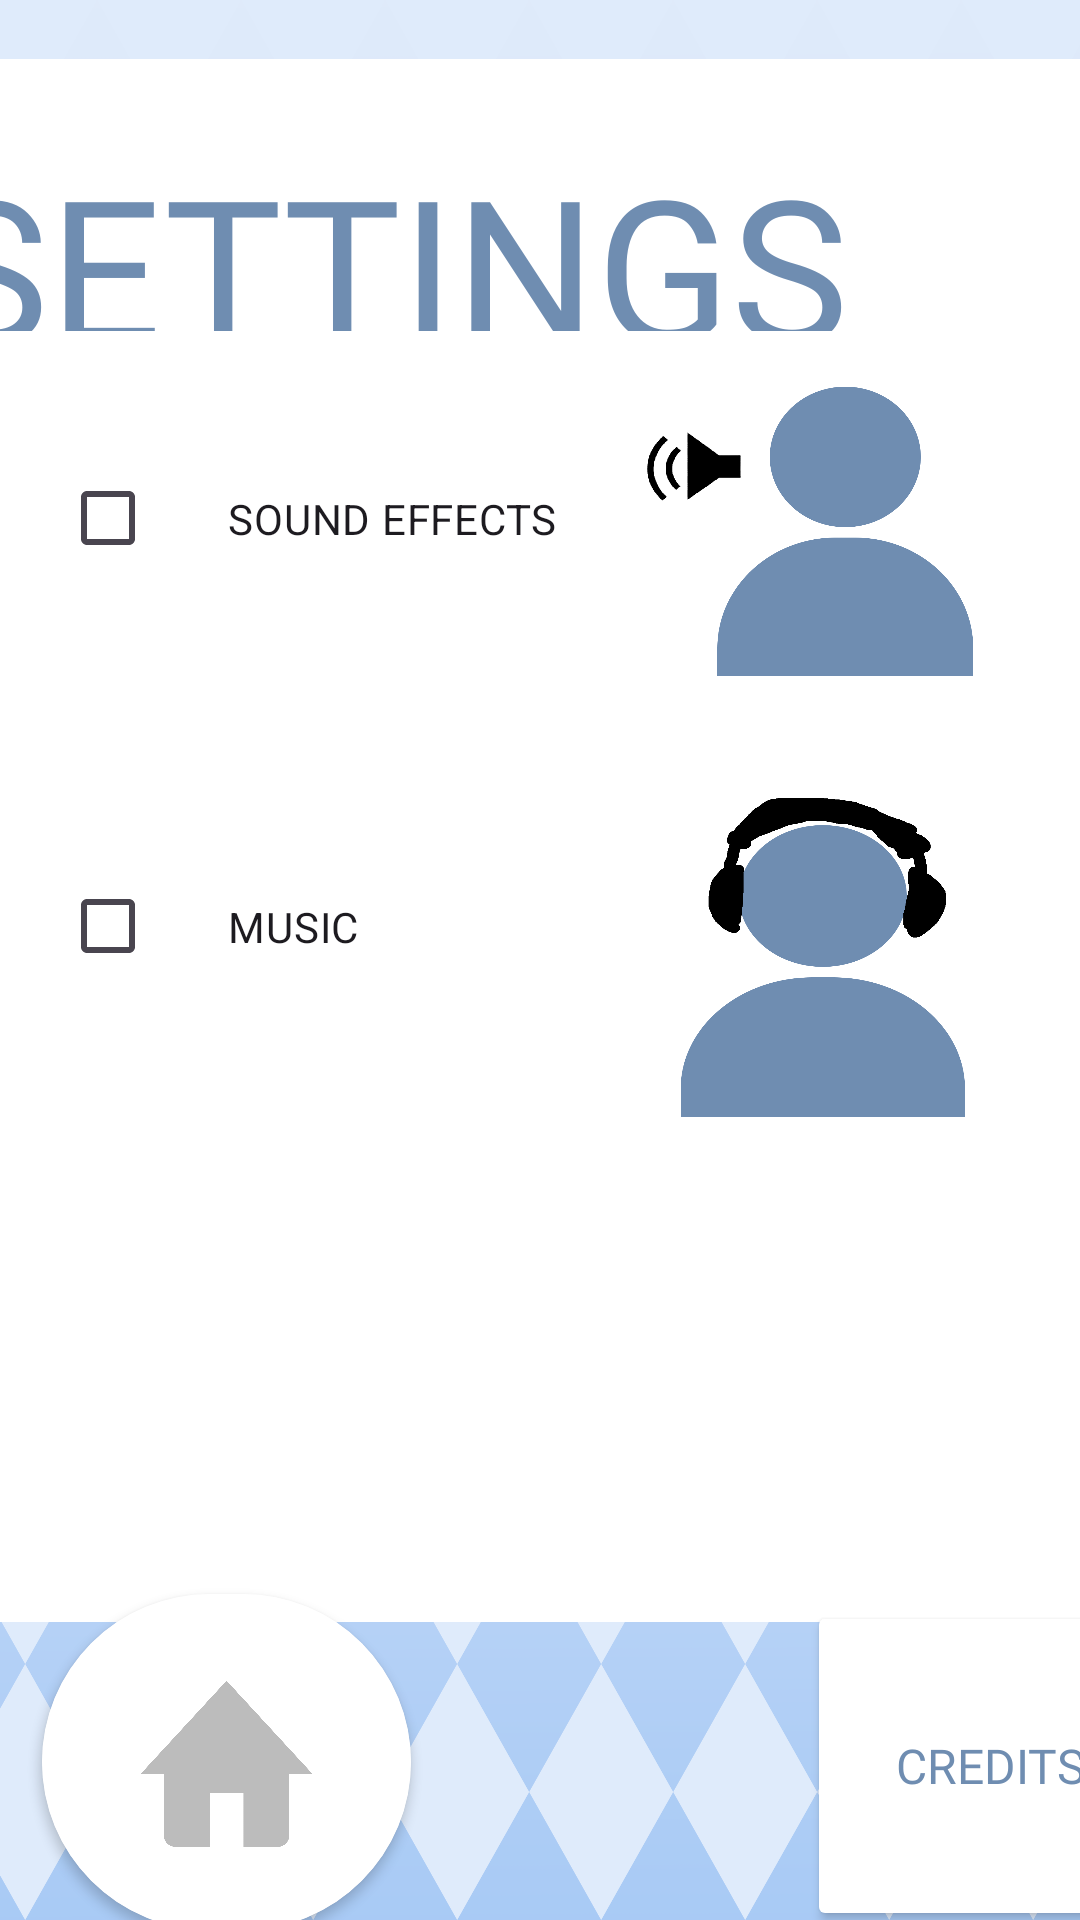

Named icons in this screenshot (1080 × 1920) and their centers, (x,y):
Music image flair: (823,957)
sound fx image flair: (810,531)
